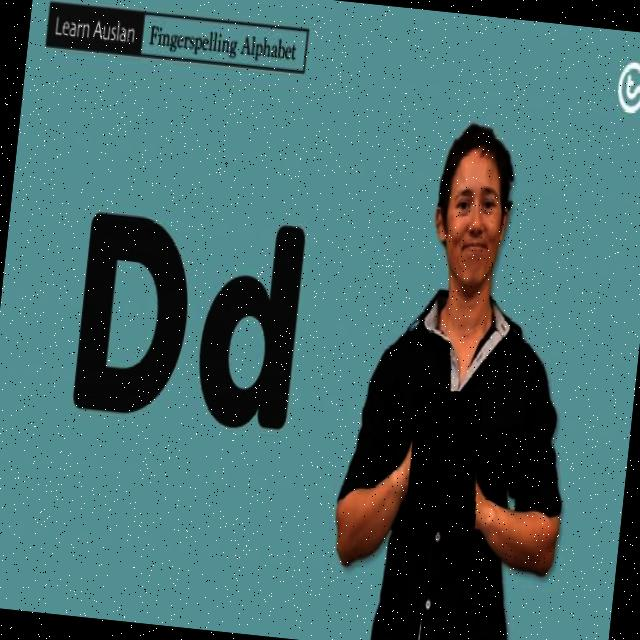D: (402, 387, 487, 533)
